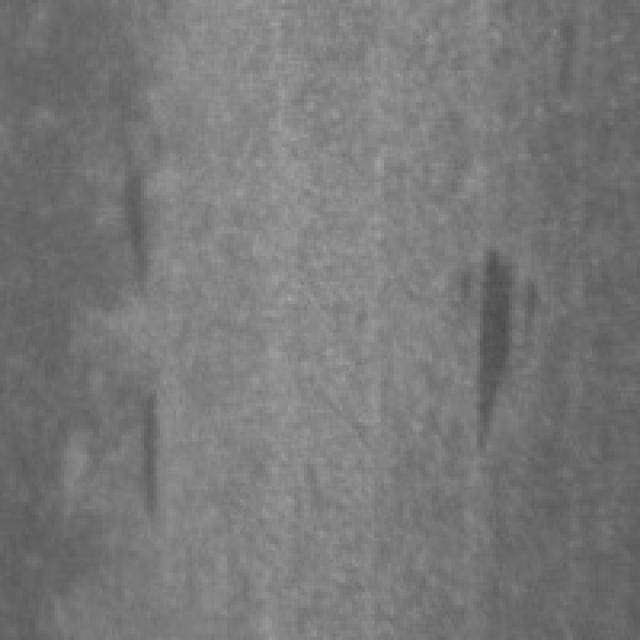inclusion: (448, 224, 525, 464), (93, 93, 163, 310), (115, 368, 176, 531)
